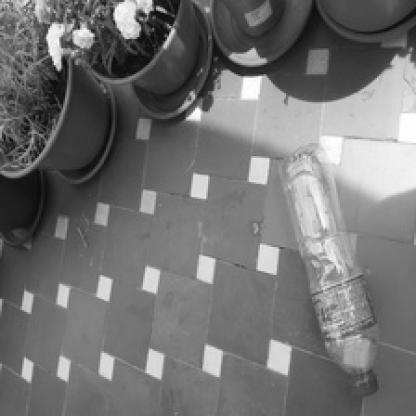plastic_bottles: (274, 140, 386, 404)
